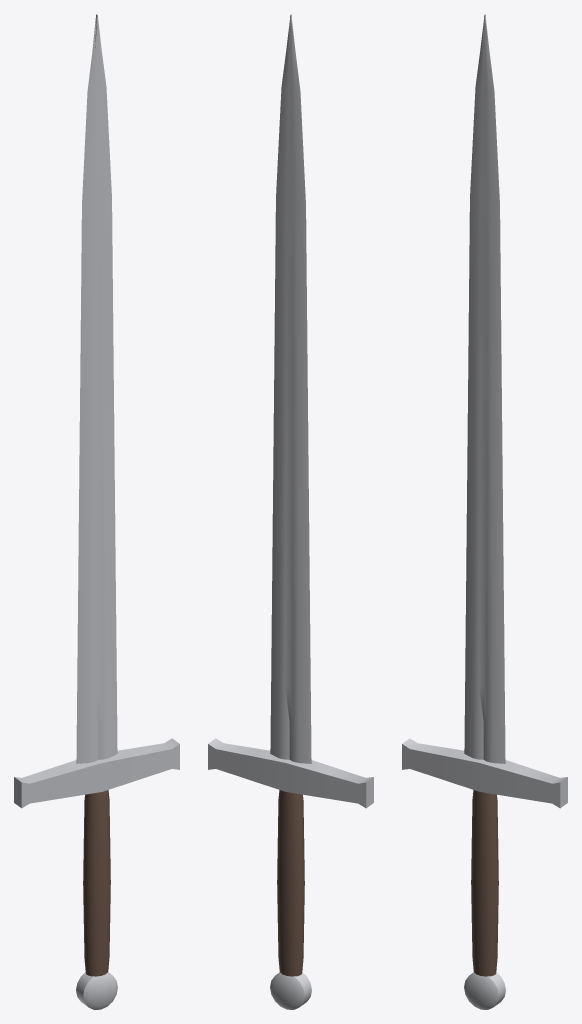
File: longsword.glb
3 views of the same model, side by side, from view 1: azimuth 30°, elevation 25°; view 2: azimuth 150°, elevation 25°; view 3: azimuth 330°, elevation 25° (orthographic).
Visible parts, largest first — view 1: OUT; view 2: OUT; view 3: OUT.
Part boxes in pixels (x1,y1,x2,y2): OUT: (14,14,179,1009); OUT: (208,14,373,1009); OUT: (402,14,567,1009).
Size of the model in its own units: 0.2 by 1.2 by 0.0256.
